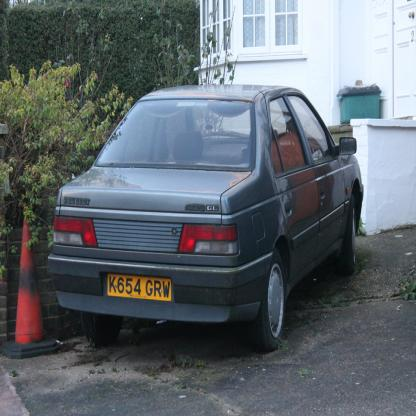Car: (46, 81, 366, 353)
